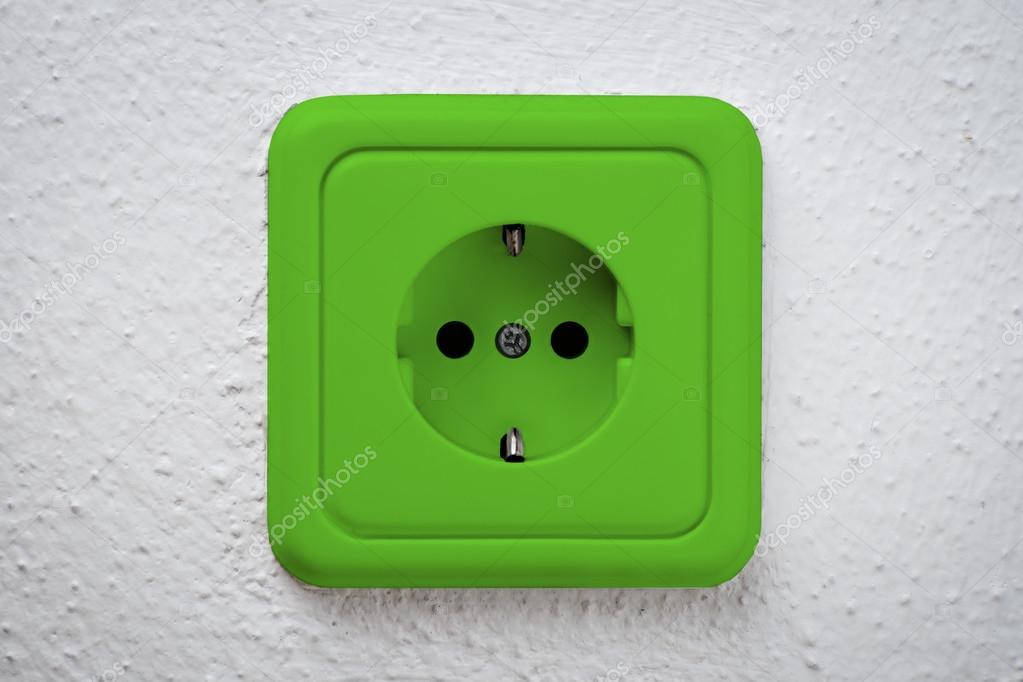raccoon: (385, 215, 641, 471)
